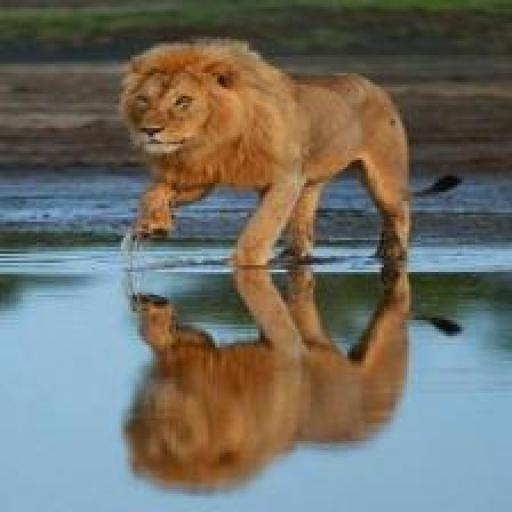lion: (112, 55, 267, 168)
